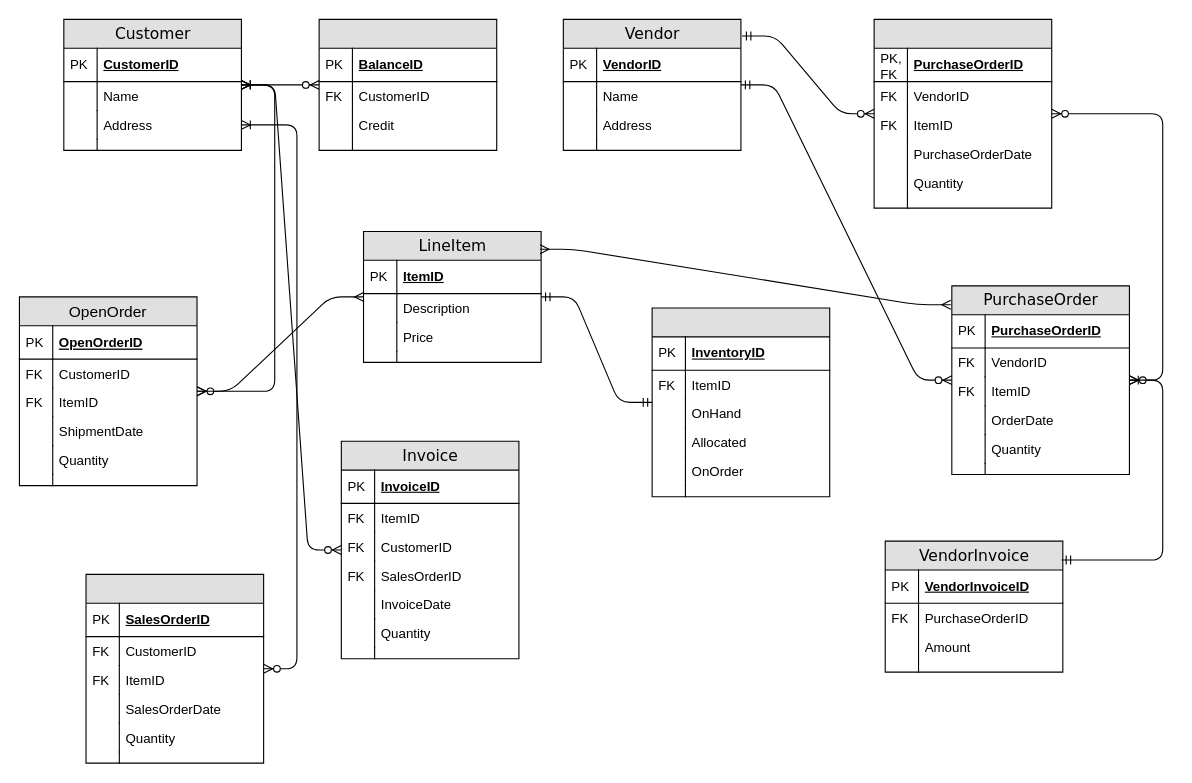
The diagram is 1192 pixels wide and 783 high, and some of its shapes have lost their labels. The shapes that lost their labels are listed below. From the top down, each one's box as (x1, y1, x2, y2) in pixels, then its label:
(318, 18, 497, 150): A/R Balance
(873, 18, 1052, 208): OpenPurchaseOrder
(651, 307, 830, 497): Inverntory
(85, 573, 264, 763): OpenSalesOrder
